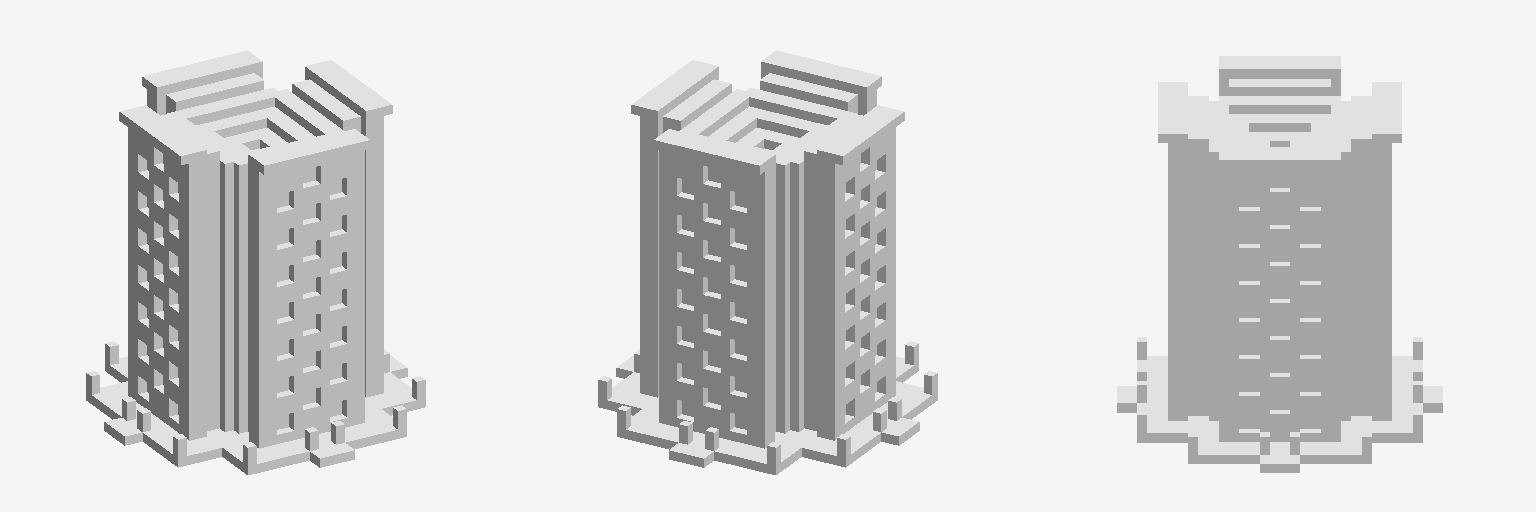
The model's file is office7.obj.
3 views of the same model, side by side, from view 1: azimuth 30°, elevation 25°; view 2: azimuth 150°, elevation 25°; view 3: azimuth 270°, elevation 25° (orthographic).
Visible parts, largest first — view 1: object 1; view 2: object 1; view 3: object 1.
Part boxes in pixels (bbox=[...]): object 1: bbox=[86, 50, 425, 474]; object 1: bbox=[598, 50, 937, 474]; object 1: bbox=[1117, 56, 1442, 472].
Size of the model in its own units: 3.2 by 3.2 by 3.2.